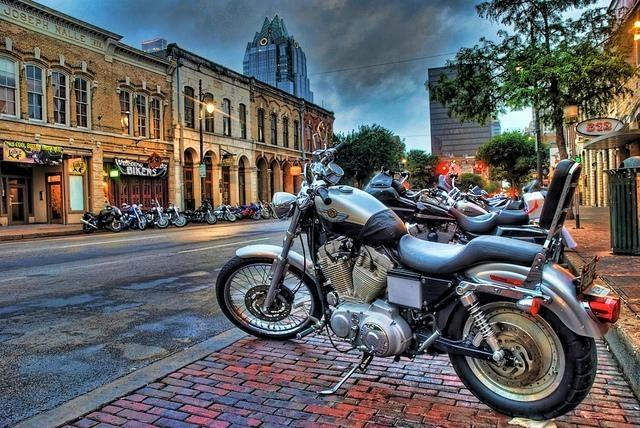motorcycle: (216, 142, 622, 422), (365, 166, 548, 247), (447, 170, 527, 211), (79, 203, 125, 234), (180, 192, 217, 224), (122, 201, 148, 230), (144, 198, 168, 228), (230, 201, 261, 221), (162, 206, 188, 228), (212, 202, 238, 224)
